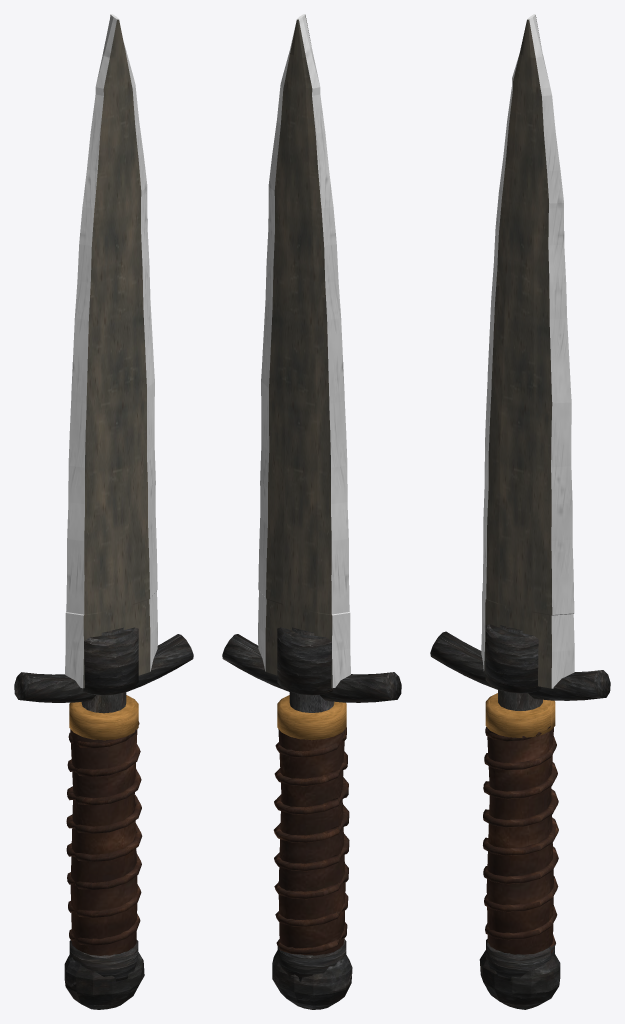
Rendered from crypt_knife.glb.
The picture shows the model from 3 angles, left to right: view 1: azimuth 30°, elevation 25°; view 2: azimuth 150°, elevation 25°; view 3: azimuth 330°, elevation 25°; orthographic projection.
Parts seen in each view (by area): view 1: Forged Blade with Eased Bevels.003, Bound palm grip.003, Continuous bound leather seam.003, Hand-forged crossguard.003, Rounded blade shoulder.003, Cast counterweight.003, Grip forward ferrule.003, Grip rear ferrule.003, Continuous tang.003; view 2: Forged Blade with Eased Bevels.003, Bound palm grip.003, Continuous bound leather seam.003, Hand-forged crossguard.003, Rounded blade shoulder.003, Cast counterweight.003, Grip forward ferrule.003, Grip rear ferrule.003, Continuous tang.003; view 3: Forged Blade with Eased Bevels.003, Bound palm grip.003, Continuous bound leather seam.003, Hand-forged crossguard.003, Rounded blade shoulder.003, Cast counterweight.003, Grip forward ferrule.003, Grip rear ferrule.003, Continuous tang.003.
Part boxes in pixels (bbox=[...]): Forged Blade with Eased Bevels.003: bbox=[65, 14, 157, 688]; Bound palm grip.003: bbox=[70, 729, 137, 955]; Continuous bound leather seam.003: bbox=[66, 721, 142, 945]; Hand-forged crossguard.003: bbox=[14, 634, 193, 702]; Rounded blade shoulder.003: bbox=[83, 627, 138, 695]; Cast counterweight.003: bbox=[64, 952, 144, 1009]; Grip forward ferrule.003: bbox=[69, 695, 138, 740]; Grip rear ferrule.003: bbox=[69, 940, 138, 981]; Continuous tang.003: bbox=[81, 627, 126, 713]; Forged Blade with Eased Bevels.003: bbox=[258, 14, 350, 688]; Bound palm grip.003: bbox=[278, 729, 345, 955]; Continuous bound leather seam.003: bbox=[273, 727, 349, 954]; Hand-forged crossguard.003: bbox=[222, 634, 401, 702]; Rounded blade shoulder.003: bbox=[277, 627, 332, 695]; Cast counterweight.003: bbox=[272, 950, 352, 1009]; Grip forward ferrule.003: bbox=[277, 695, 346, 740]; Grip rear ferrule.003: bbox=[277, 939, 346, 981]; Continuous tang.003: bbox=[289, 627, 334, 712]; Forged Blade with Eased Bevels.003: bbox=[481, 14, 574, 688]; Bound palm grip.003: bbox=[486, 727, 553, 954]; Continuous bound leather seam.003: bbox=[483, 726, 558, 953]; Hand-forged crossguard.003: bbox=[430, 631, 610, 700]; Rounded blade shoulder.003: bbox=[485, 624, 541, 693]; Cast counterweight.003: bbox=[479, 950, 560, 1009]; Grip forward ferrule.003: bbox=[485, 693, 555, 737]; Grip rear ferrule.003: bbox=[486, 939, 554, 980]; Continuous tang.003: bbox=[498, 625, 542, 710].
Bounding box in the file's own units: 0.1344 × 0.7399 × 0.0512.
5 materials, 5 textured.
